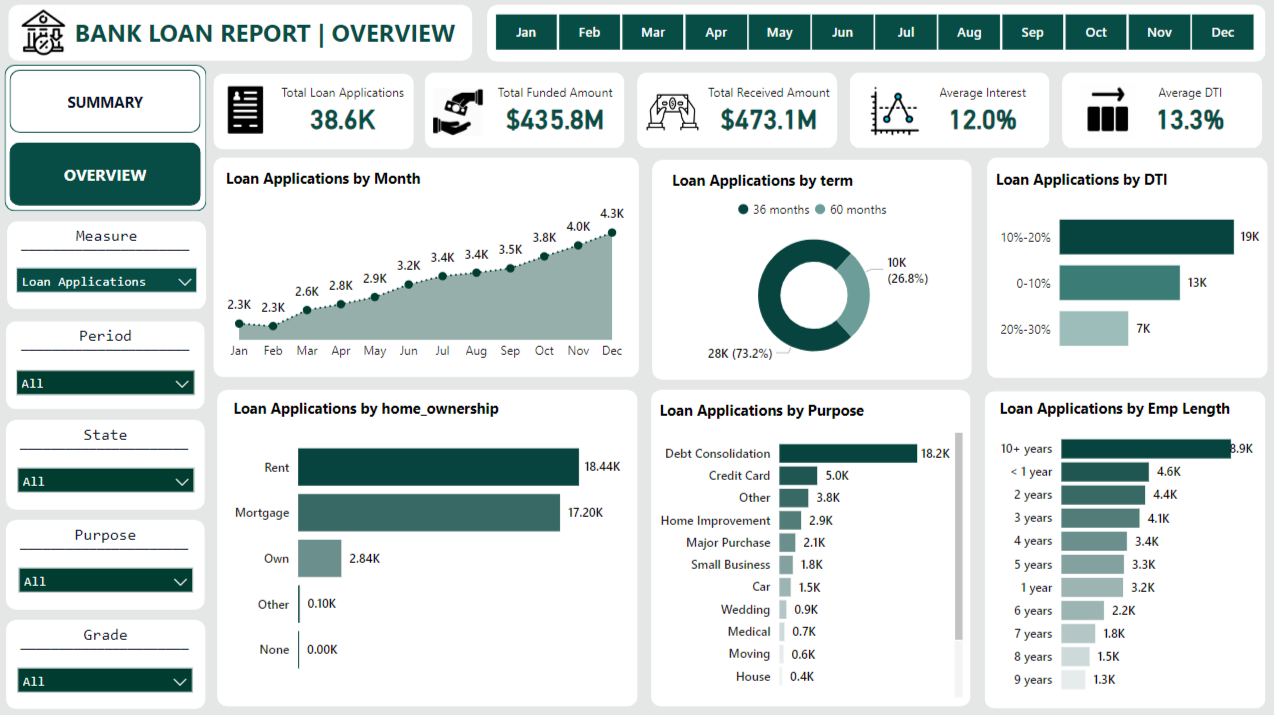

The page's visual inventory and layout, read from the dashboard file:
{"tool":"powerbi","page":{"name":"OVERVIEW","canvas":[1280,720],"ordinal":1},"visuals":[{"type":"shape","box":[10.8,4.4,463.9,56],"z":0,"group":"g14"},{"type":"shape","box":[7.3,64.4,202,146.3],"z":0,"group":"g15"},{"type":"shape","box":[1065.3,72.6,200,76],"z":0},{"type":"shape","box":[10.2,221.3,199,88.3],"z":0,"group":"g2"},{"type":"shape","box":[9.2,320.8,199,88.3],"z":0,"group":"g13"},{"type":"shape","box":[9.1,420.4,199,90],"z":0,"group":"g8"},{"type":"shape","box":[9.3,520.2,199,90],"z":0,"group":"g9"},{"type":"shape","box":[8.7,620,199.7,89.3],"z":0,"group":"g10"},{"type":"textbox","box":[72.6,11.2,400.5,51.9],"z":1000,"group":"g14"},{"type":"shape","box":[852.5,72.6,200,76],"z":1000},{"type":"slicer","title":"Select Measure","fields":{"Values":["loan_data.term"]},"box":[8.8,359.6,199,38.8],"z":1000,"group":"g13"},{"type":"shape","box":[220,389.5,420.5,316.8],"z":1000,"group":"g7"},{"type":"image","box":[13.7,4.4,64.4,55.6],"z":2000,"group":"g14"},{"type":"shape","box":[639.8,72.6,200,76],"z":2000},{"type":"textbox","box":[36.3,221.3,146.7,31.6],"z":2000,"group":"g2"},{"type":"textbox","box":[35.3,320.8,146.7,31.6],"z":2000,"group":"g13"},{"type":"textbox","box":[35.2,420.4,146.7,34.7],"z":2000,"group":"g8"},{"type":"textbox","box":[35.4,520.2,146.7,32.2],"z":2000,"group":"g9"},{"type":"textbox","box":[34.9,620,147.2,31.9],"z":2000,"group":"g10"},{"type":"shape","box":[427,72.6,200,76],"z":3000},{"type":"textbox","box":[14.6,228.5,188.8,30.1],"z":3000,"group":"g2"},{"type":"textbox","box":[13.5,328,188.8,30.1],"z":3000,"group":"g13"},{"type":"textbox","box":[13.5,428.3,188.8,33.2],"z":3000,"group":"g8"},{"type":"textbox","box":[13.7,527.5,188.8,30.7],"z":3000,"group":"g9"},{"type":"textbox","box":[3.4,626.9,207,30.5],"z":3000,"group":"g10"},{"type":"shape","box":[653.8,390.2,319.7,316.8],"z":4000},{"type":"shape","box":[490.2,4.4,778.5,57.1],"z":5000},{"type":"shape","box":[654.5,159.5,319.7,220],"z":5000,"group":"g6"},{"type":"shape","box":[989.9,158,280.8,221.1],"z":6000,"group":"g1"},{"type":"shape","box":[987.8,390.7,281,317.6],"z":6000},{"type":"barChart","fields":{"Y":["loan_data.Total Loan Applications"],"Category":["loan_data.purpose"]},"box":[657.1,399.5,313.2,302.9],"z":7000},{"type":"slicer","fields":{"Values":["Date Table.Month"]},"box":[472.2,7.3,807.8,49.8],"z":8000},{"type":"shape","box":[216.6,158,425.9,220],"z":8000,"group":"g12"},{"type":"group","id":"g1","title":"Group 2","box":[989.9,158,281,219.5],"z":9000},{"type":"group","id":"g2","title":"Group 7","box":[10.2,221.3,199,89],"z":10000},{"type":"group","id":"g3","title":"Group 8","box":[9.1,420.4,199,89.3],"z":11000},{"type":"group","id":"g4","title":"Group 8","box":[9.3,520.2,199,89.3],"z":12000},{"type":"group","id":"g5","title":"Group 8","box":[3.4,620,207,89.3],"z":13000},{"type":"shape","box":[216.6,73.2,200.5,76.1],"z":14000},{"type":"donutChart","fields":{"Y":["loan_data.Total Loan Applications"],"Category":["loan_data.term"]},"box":[669.9,169,294.1,203.4],"z":14000,"group":"g6"},{"type":"group","id":"g6","title":"Group 1","box":[654.5,159.5,319.7,220],"z":15000},{"type":"clusteredBarChart","fields":{"Y":["loan_data.Total Loan Applications"],"Category":["loan_data.dti_bin"]},"box":[994.2,168.7,273.6,202.8],"z":15000,"group":"g1"},{"type":"pageNavigator","box":[11.7,68.9,191.5,137.7],"z":16000,"group":"g15"},{"type":"lineChart","fields":{"Y":["loan_data.Total Loan Applications"],"Category":["Date Table.Month"]},"box":[223.8,168.6,410,201.8],"z":16000,"group":"g12"},{"type":"group","id":"g7","title":"Group 5","box":[220,389.5,420.5,316.8],"z":16000},{"type":"group","id":"g8","title":"Group 7","box":[9.1,420.4,199,90],"z":16000,"group":"g3"},{"type":"group","id":"g9","title":"Group 7","box":[9.3,520.2,199,90],"z":16000,"group":"g4"},{"type":"group","id":"g10","title":"Group 7","box":[3.4,620,207,89.3],"z":16000,"group":"g11"},{"type":"group","id":"g11","title":"Group 1","box":[3.4,620,207,89.3],"z":16001,"group":"g5"},{"type":"slicer","fields":{"Values":["loan_data.address_state"]},"box":[10.6,458.4,197.5,41],"z":16500,"group":"g3"},{"type":"slicer","fields":{"Values":["loan_data.purpose"]},"box":[12.2,558.2,194.6,41],"z":16500,"group":"g4"},{"type":"slicer","fields":{"Values":["loan_data.grade"]},"box":[10.2,657.7,195.3,40.6],"z":16500,"group":"g11"},{"type":"group","id":"g12","title":"Group 6","box":[216.6,158,425.9,219.5],"z":17000},{"type":"barChart","fields":{"Y":["loan_data.Total Loan Applications"],"Category":["loan_data.emp_length"]},"box":[997.9,397.4,263.5,306.7],"z":18000},{"type":"group","id":"g13","title":"Group 7","box":[8.8,320.8,199,89],"z":19000},{"type":"slicer","fields":{"Values":["Select Measure.Select Measure"]},"box":[8.4,257,201.6,42],"z":20000},{"type":"card","title":"Total Loan Applications","fields":{"Values":["loan_data.Total Loan Applications"]},"box":[278,83.4,136.1,54.1],"z":21000},{"type":"card","title":"Total Funded Amount","fields":{"Values":["loan_data.Total Funded Amount"]},"box":[490.2,83.4,136.1,54.1],"z":22000},{"type":"card","title":"Total Received Amount","fields":{"Values":["loan_data.Total Received Amount"]},"box":[703.9,83.4,136.1,54.1],"z":23000},{"type":"card","title":"Average Interest","fields":{"Values":["loan_data.Avg Interest Rate"]},"box":[917.6,83.4,136.1,54.1],"z":24000},{"type":"card","title":"Average DTI","fields":{"Values":["loan_data.Avg DTI"]},"box":[1125.4,83.4,136.1,54.1],"z":25000},{"type":"image","box":[219.5,73.2,57,72],"z":26000},{"type":"image","box":[430.7,78.4,59.1,67.6],"z":27000},{"type":"image","box":[865,82,65.1,57.9],"z":28000},{"type":"image","box":[1078.5,77.6,65.9,65.9],"z":29000},{"type":"image","box":[642.4,74.6,68.8,68.8],"z":30000},{"type":"group","id":"g14","title":"Group 10","box":[10.8,4.4,463.9,58.6],"z":31000},{"type":"clusteredBarChart","fields":{"Y":["loan_data.Total Loan Applications"],"Category":["loan_data.home_ownership"]},"box":[231.8,398.1,397,295.6],"z":32000},{"type":"group","id":"g15","title":"Group 3","box":[7.3,64.4,202,146.3],"z":33000}]}

Visuals, with their boxes in screenshot pixels (x1, y1, x2, y2), scaled from the page's 1280x720 canvas onto the 1274x715 screenshot:
shape: detection(11, 4, 472, 60)
shape: detection(7, 64, 208, 209)
shape: detection(1060, 72, 1259, 148)
shape: detection(10, 220, 208, 307)
shape: detection(9, 319, 207, 406)
shape: detection(9, 417, 207, 507)
shape: detection(9, 517, 207, 606)
shape: detection(9, 616, 207, 704)
textbox: detection(72, 11, 471, 63)
shape: detection(849, 72, 1048, 148)
"Select Measure" slicer: detection(9, 357, 207, 396)
shape: detection(219, 387, 637, 701)
image: detection(14, 4, 78, 60)
shape: detection(637, 72, 836, 148)
textbox: detection(36, 220, 182, 251)
textbox: detection(35, 319, 181, 350)
textbox: detection(35, 417, 181, 452)
textbox: detection(35, 517, 181, 549)
textbox: detection(35, 616, 181, 647)
shape: detection(425, 72, 624, 148)
textbox: detection(15, 227, 202, 257)
textbox: detection(13, 326, 201, 356)
textbox: detection(13, 425, 201, 458)
textbox: detection(14, 524, 202, 554)
textbox: detection(3, 623, 209, 653)
shape: detection(651, 387, 969, 702)
shape: detection(488, 4, 1263, 61)
shape: detection(651, 158, 970, 377)
shape: detection(985, 157, 1265, 376)
shape: detection(983, 388, 1263, 703)
barChart - loan_data.Total Loan Applications x loan_data.purpose: detection(654, 397, 966, 698)
slicer - Date Table.Month: detection(470, 7, 1273, 57)
shape: detection(216, 157, 639, 375)
"Group 2" group: detection(985, 157, 1265, 375)
"Group 7" group: detection(10, 220, 208, 308)
"Group 8" group: detection(9, 417, 207, 506)
"Group 8" group: detection(9, 517, 207, 605)
"Group 8" group: detection(3, 616, 209, 704)
shape: detection(216, 73, 415, 148)
donutChart - loan_data.Total Loan Applications x loan_data.term: detection(667, 168, 959, 370)
"Group 1" group: detection(651, 158, 970, 377)
clusteredBarChart - loan_data.Total Loan Applications x loan_data.dti_bin: detection(990, 168, 1262, 369)
pageNavigator: detection(12, 68, 202, 205)
lineChart - loan_data.Total Loan Applications x Date Table.Month: detection(223, 167, 631, 368)
"Group 5" group: detection(219, 387, 637, 701)
"Group 7" group: detection(9, 417, 207, 507)
"Group 7" group: detection(9, 517, 207, 606)
"Group 7" group: detection(3, 616, 209, 704)
"Group 1" group: detection(3, 616, 209, 704)
slicer - loan_data.address_state: detection(11, 455, 207, 496)
slicer - loan_data.purpose: detection(12, 554, 206, 595)
slicer - loan_data.grade: detection(10, 653, 205, 693)
"Group 6" group: detection(216, 157, 639, 375)
barChart - loan_data.Total Loan Applications x loan_data.emp_length: detection(993, 395, 1255, 699)
"Group 7" group: detection(9, 319, 207, 407)
slicer - Select Measure.Select Measure: detection(8, 255, 209, 297)
"Total Loan Applications" card: detection(277, 83, 412, 137)
"Total Funded Amount" card: detection(488, 83, 623, 137)
"Total Received Amount" card: detection(701, 83, 836, 137)
"Average Interest" card: detection(913, 83, 1049, 137)
"Average DTI" card: detection(1120, 83, 1256, 137)
image: detection(218, 73, 275, 144)
image: detection(429, 78, 488, 145)
image: detection(861, 81, 926, 139)
image: detection(1073, 77, 1139, 143)
image: detection(639, 74, 708, 142)
"Group 10" group: detection(11, 4, 472, 63)
clusteredBarChart - loan_data.Total Loan Applications x loan_data.home_ownership: detection(231, 395, 626, 689)
"Group 3" group: detection(7, 64, 208, 209)
